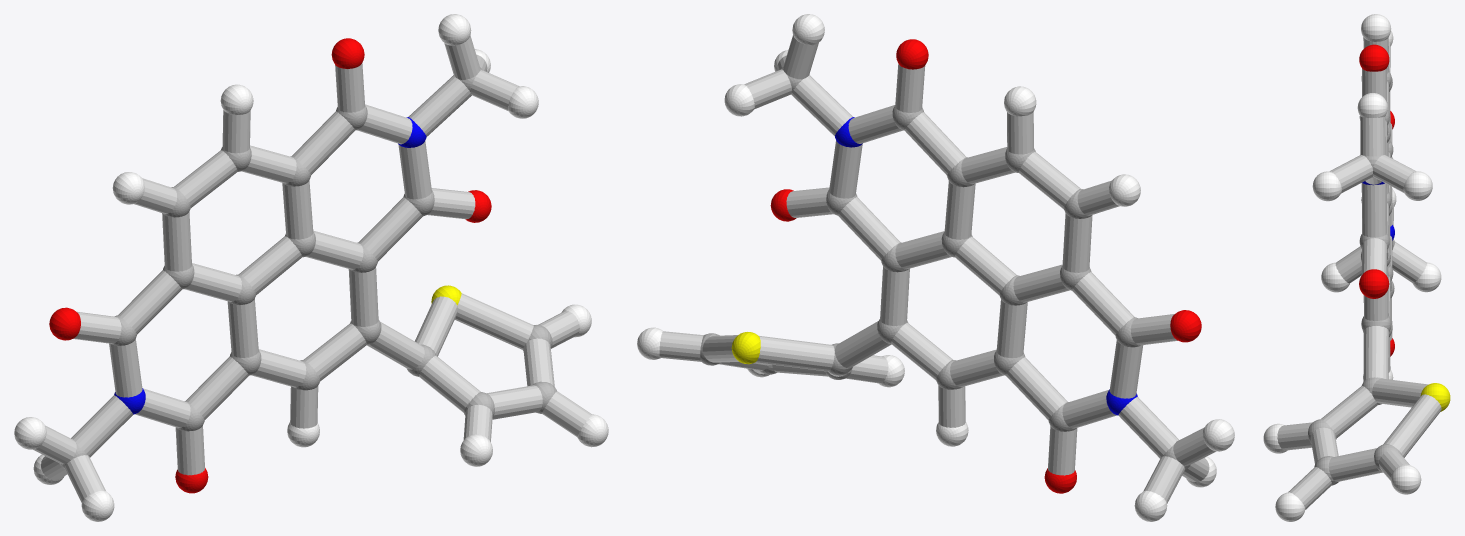
Rendered from Dimethyl_Naphthalene_Dicarboximide_Phi_25_Theta_120_Thiophene.glb.
3 renders of one model, left to right at view 1: azimuth 30°, elevation 25°; view 2: azimuth 150°, elevation 25°; view 3: azimuth 270°, elevation 25°, orthographic. The views are drawn at different scales.
Visible parts, largest first — view 1: grp14119, grp7241, grp1, grp12309, grp11585; view 2: grp14119, grp7241, grp1, grp12309, grp13757, grp11585; view 3: grp14119, grp7241, grp1, grp12309, grp13757.
Boxes of the visible parts, <box> form: grp14119: <box>33,35,591,502</box>; grp7241: <box>14,14,608,521</box>; grp1: <box>59,67,556,468</box>; grp12309: <box>49,38,491,493</box>; grp11585: <box>114,117,426,414</box>; grp14119: <box>659,35,1216,503</box>; grp7241: <box>637,14,1234,521</box>; grp1: <box>700,67,1190,469</box>; grp12309: <box>770,39,1201,493</box>; grp13757: <box>731,332,760,364</box>; grp11585: <box>835,117,1137,415</box>; grp14119: <box>1277,37,1441,509</box>; grp7241: <box>1263,14,1441,521</box>; grp1: <box>1308,71,1402,485</box>; grp12309: <box>1359,44,1394,356</box>; grp13757: <box>1420,383,1450,411</box>.
Size of the model in its own units: 12.35 by 8.46 by 3.72.
